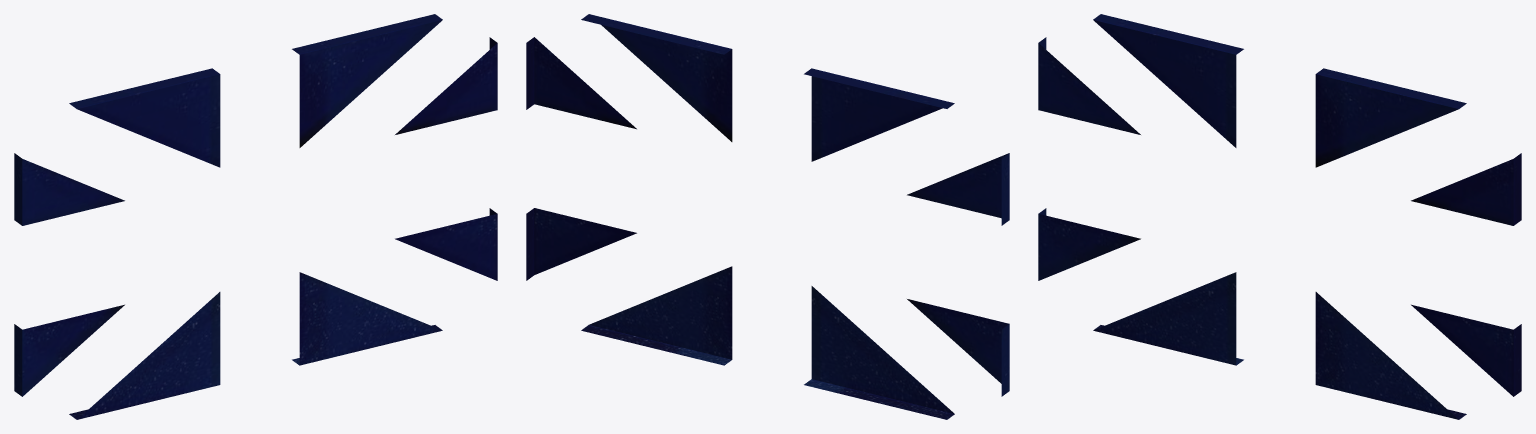
Rendered from united_kingdom_blue.glb.
3 views of the same model, side by side, from view 1: azimuth 30°, elevation 25°; view 2: azimuth 150°, elevation 25°; view 3: azimuth 330°, elevation 25° (orthographic).
Parts seen in each view (by area): view 1: united_kingdom_blue; view 2: united_kingdom_blue; view 3: united_kingdom_blue.
Boxes of the visible parts, x1,y1,x2,y2 form: united_kingdom_blue: [14, 14, 497, 419]; united_kingdom_blue: [526, 14, 1009, 419]; united_kingdom_blue: [1038, 14, 1521, 419].
Bounding box in the file's own units: 1.28 × 0.8 × 0.0373.
Materials: 1 (1 with a texture image).
